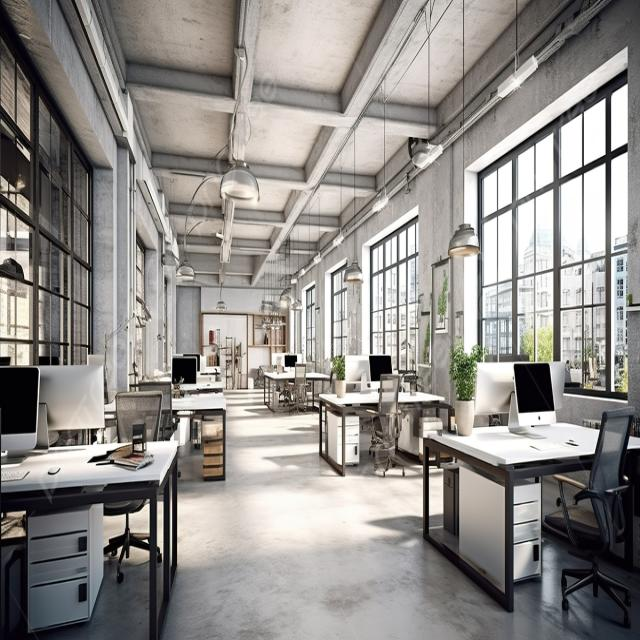chair: (542, 405, 635, 629), (102, 390, 164, 583)
